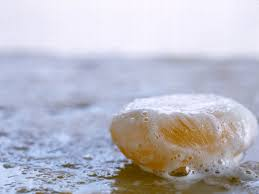Wet-floor: (0, 118, 259, 194)
